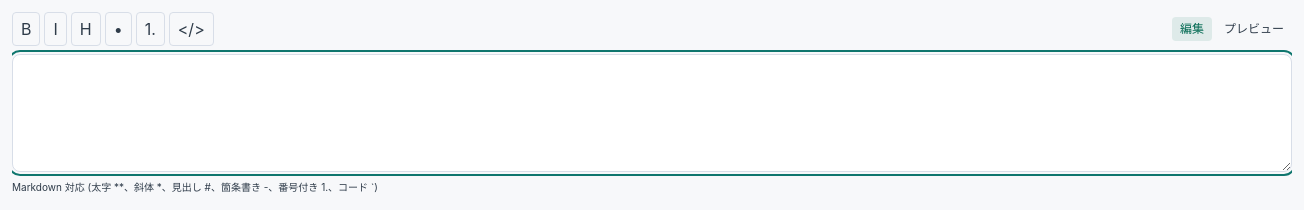
MarkdownEditor › 選択なしの太字はプレースホルダ (**太字**) を挿入する
Click the button named "太字" at x=26, y=29, box [12,12,40,46]
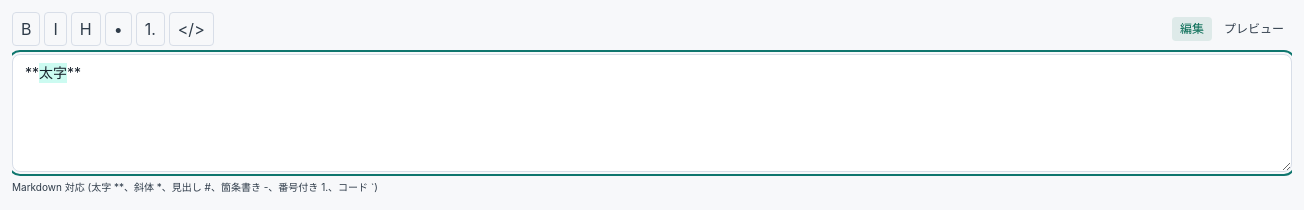
Result: the text box named "本文" holds "**太字**" at [12,54,1292,172]
